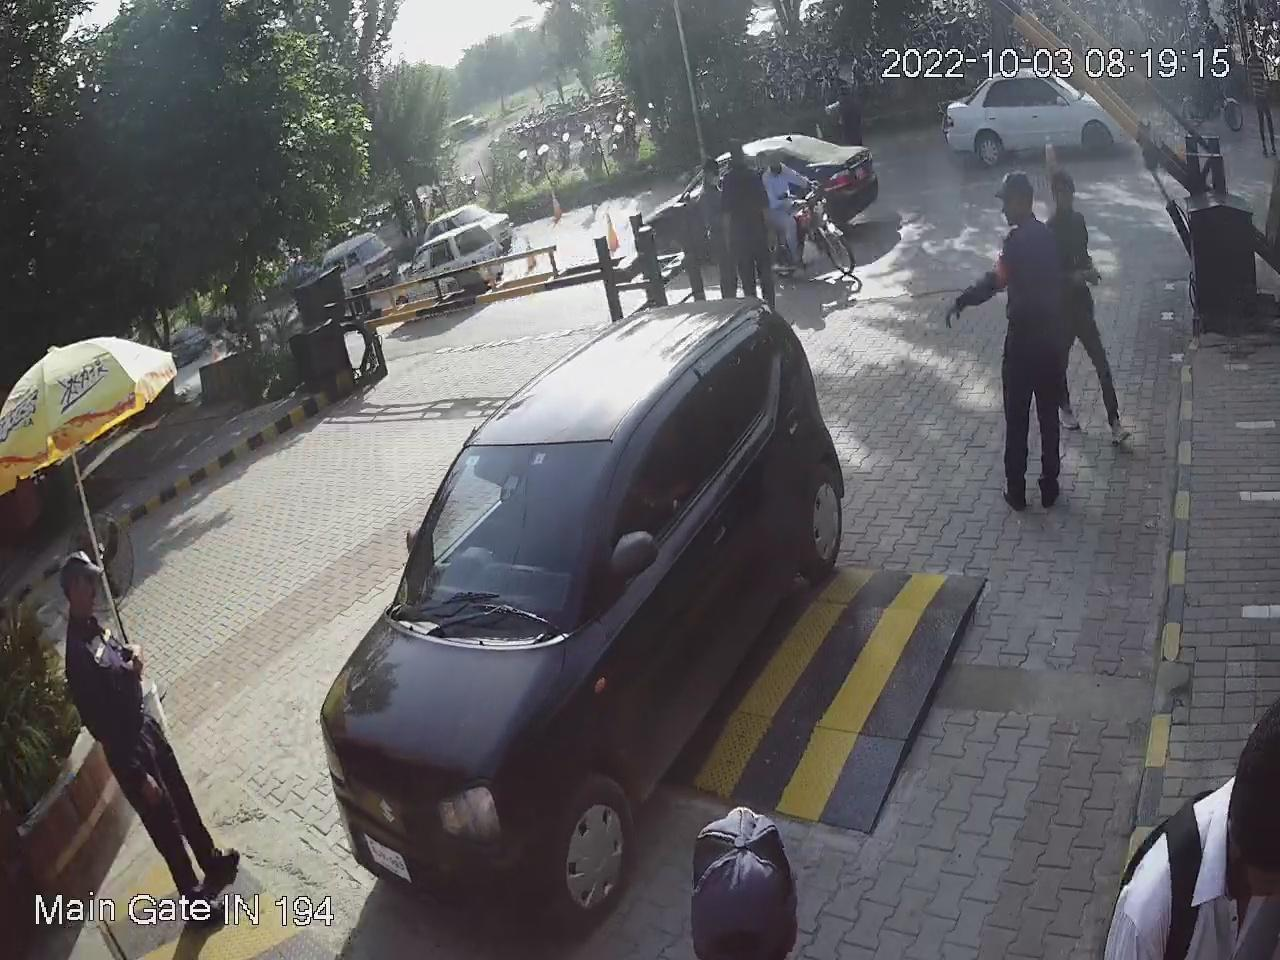windshield: (395, 438, 626, 637)
